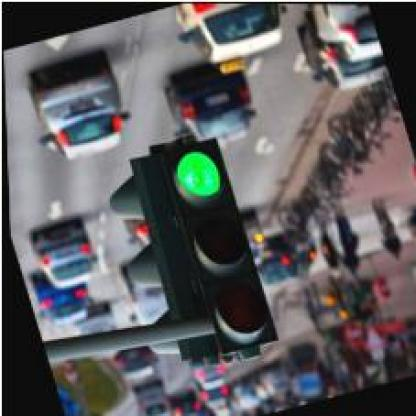green: (152, 129, 280, 355)
